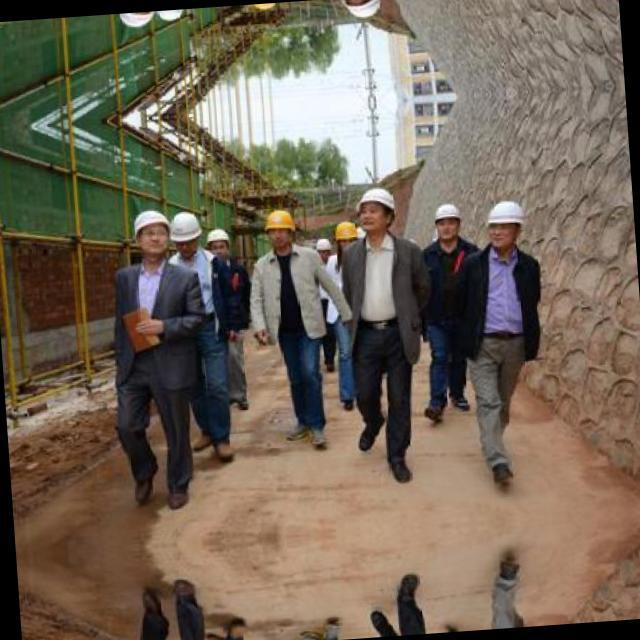helmet: (477, 194, 528, 250), (354, 180, 399, 232), (128, 204, 170, 259), (261, 206, 298, 254), (427, 197, 467, 240), (168, 210, 202, 254), (202, 222, 230, 264), (334, 218, 363, 258), (340, 0, 385, 25), (114, 11, 155, 34), (312, 233, 334, 264), (153, 9, 186, 23)
